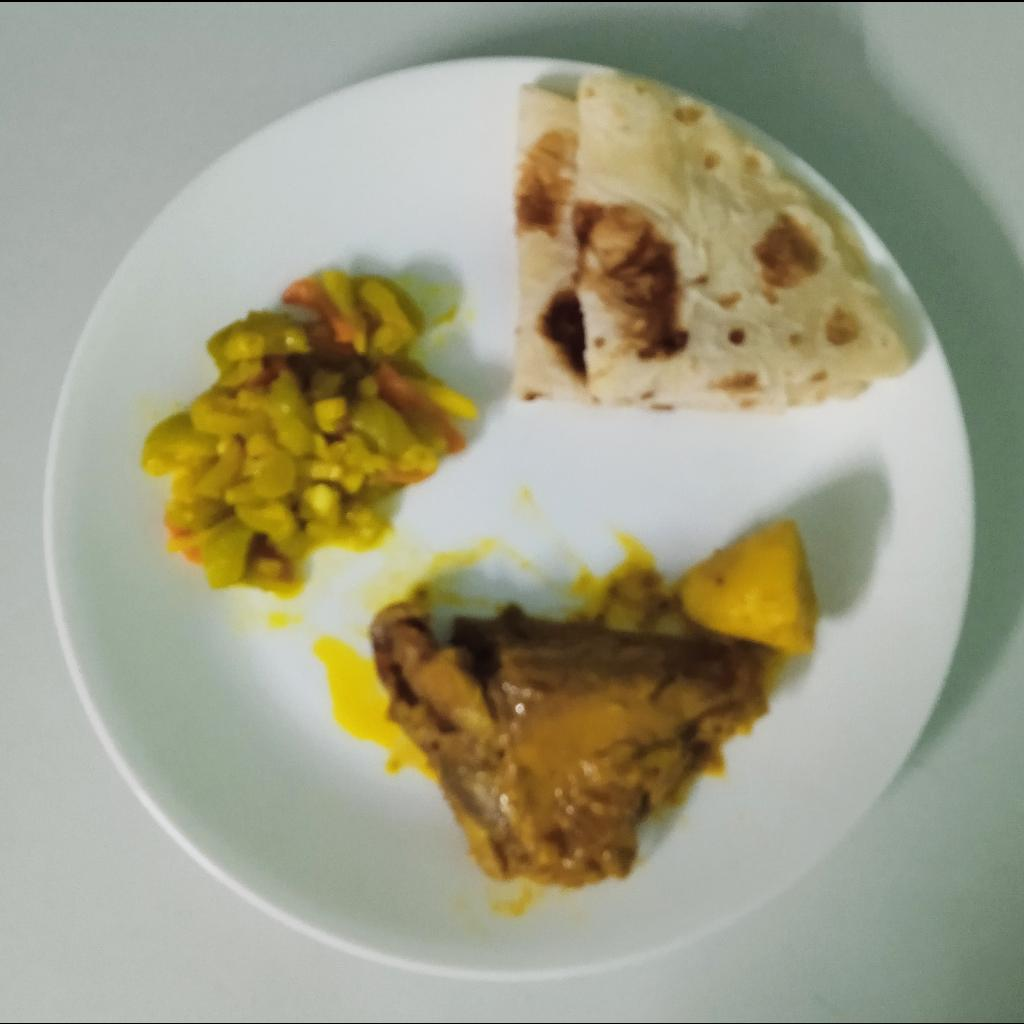chicken: (369, 596, 769, 886)
potato: (668, 517, 818, 656)
ruti: (508, 73, 914, 409)
vegetable: (135, 272, 480, 595)
